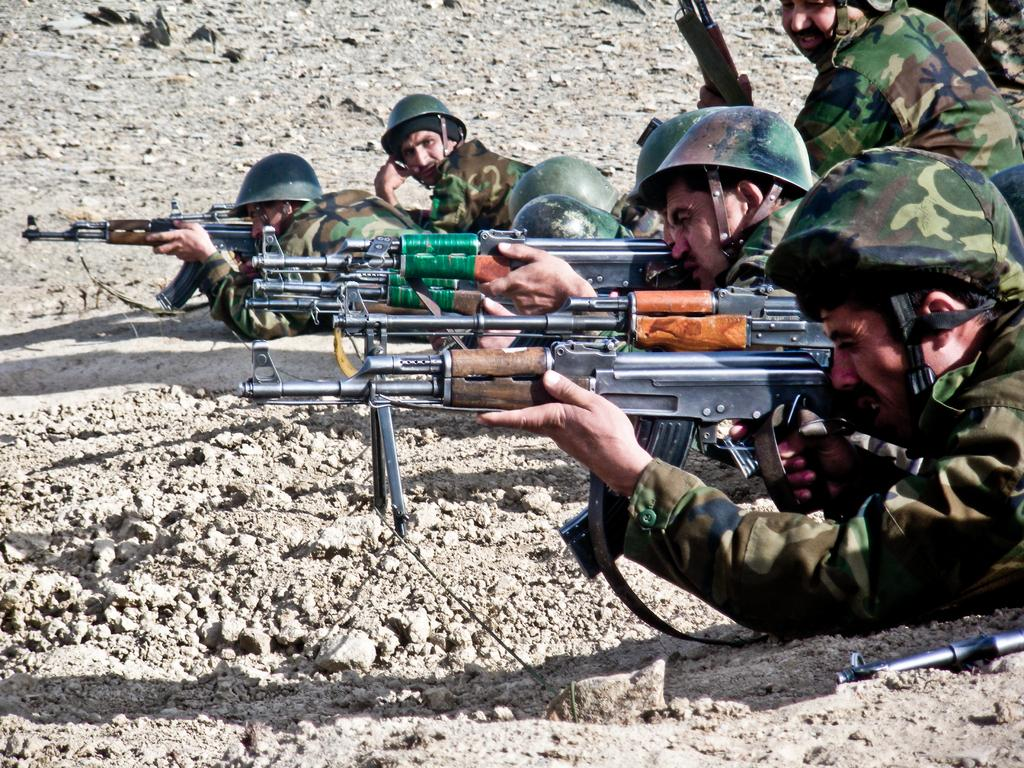Rifle: (238, 285, 832, 577), (244, 218, 684, 303), (14, 192, 265, 319)
